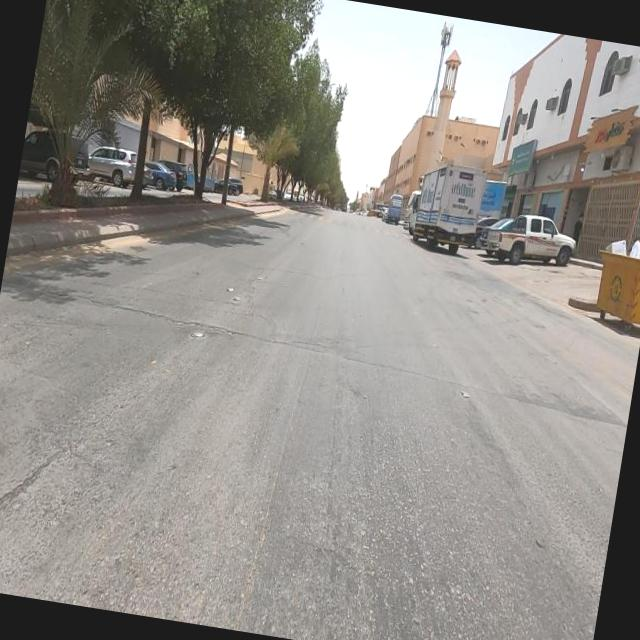debris: (561, 187, 640, 309)
